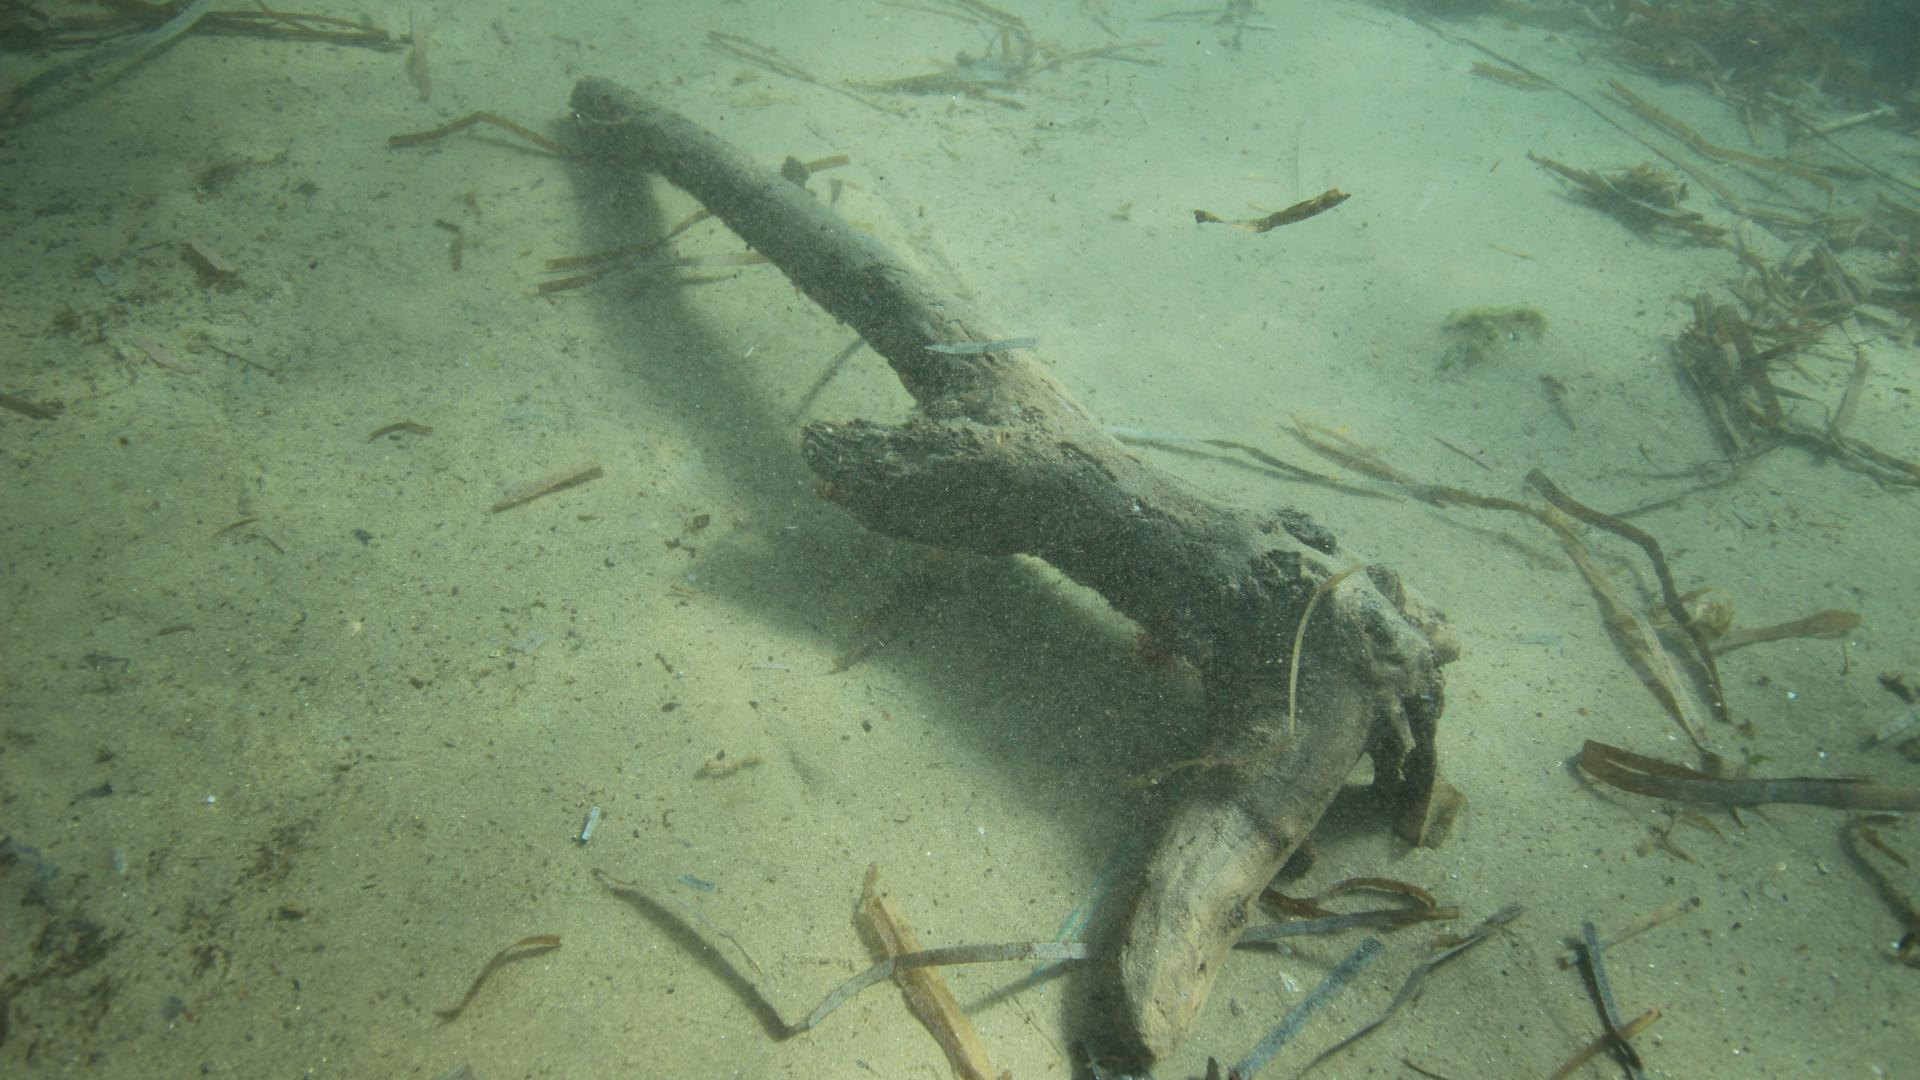wood: (568, 73, 1453, 1058)
